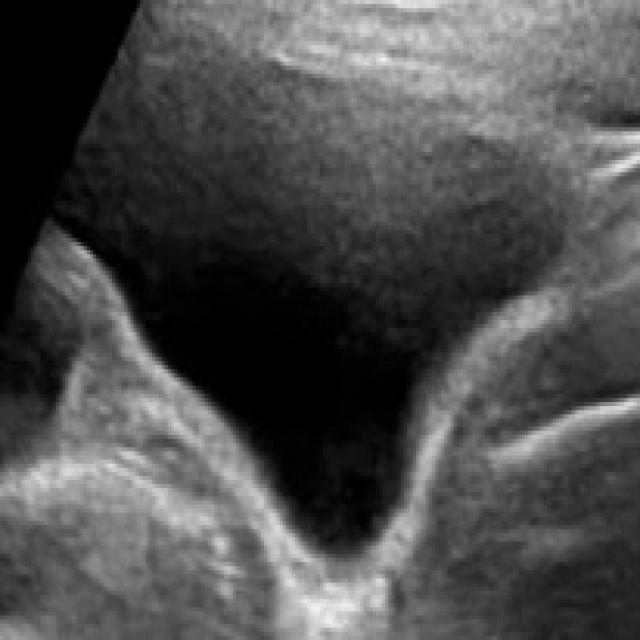bladder: (38, 5, 614, 602)
